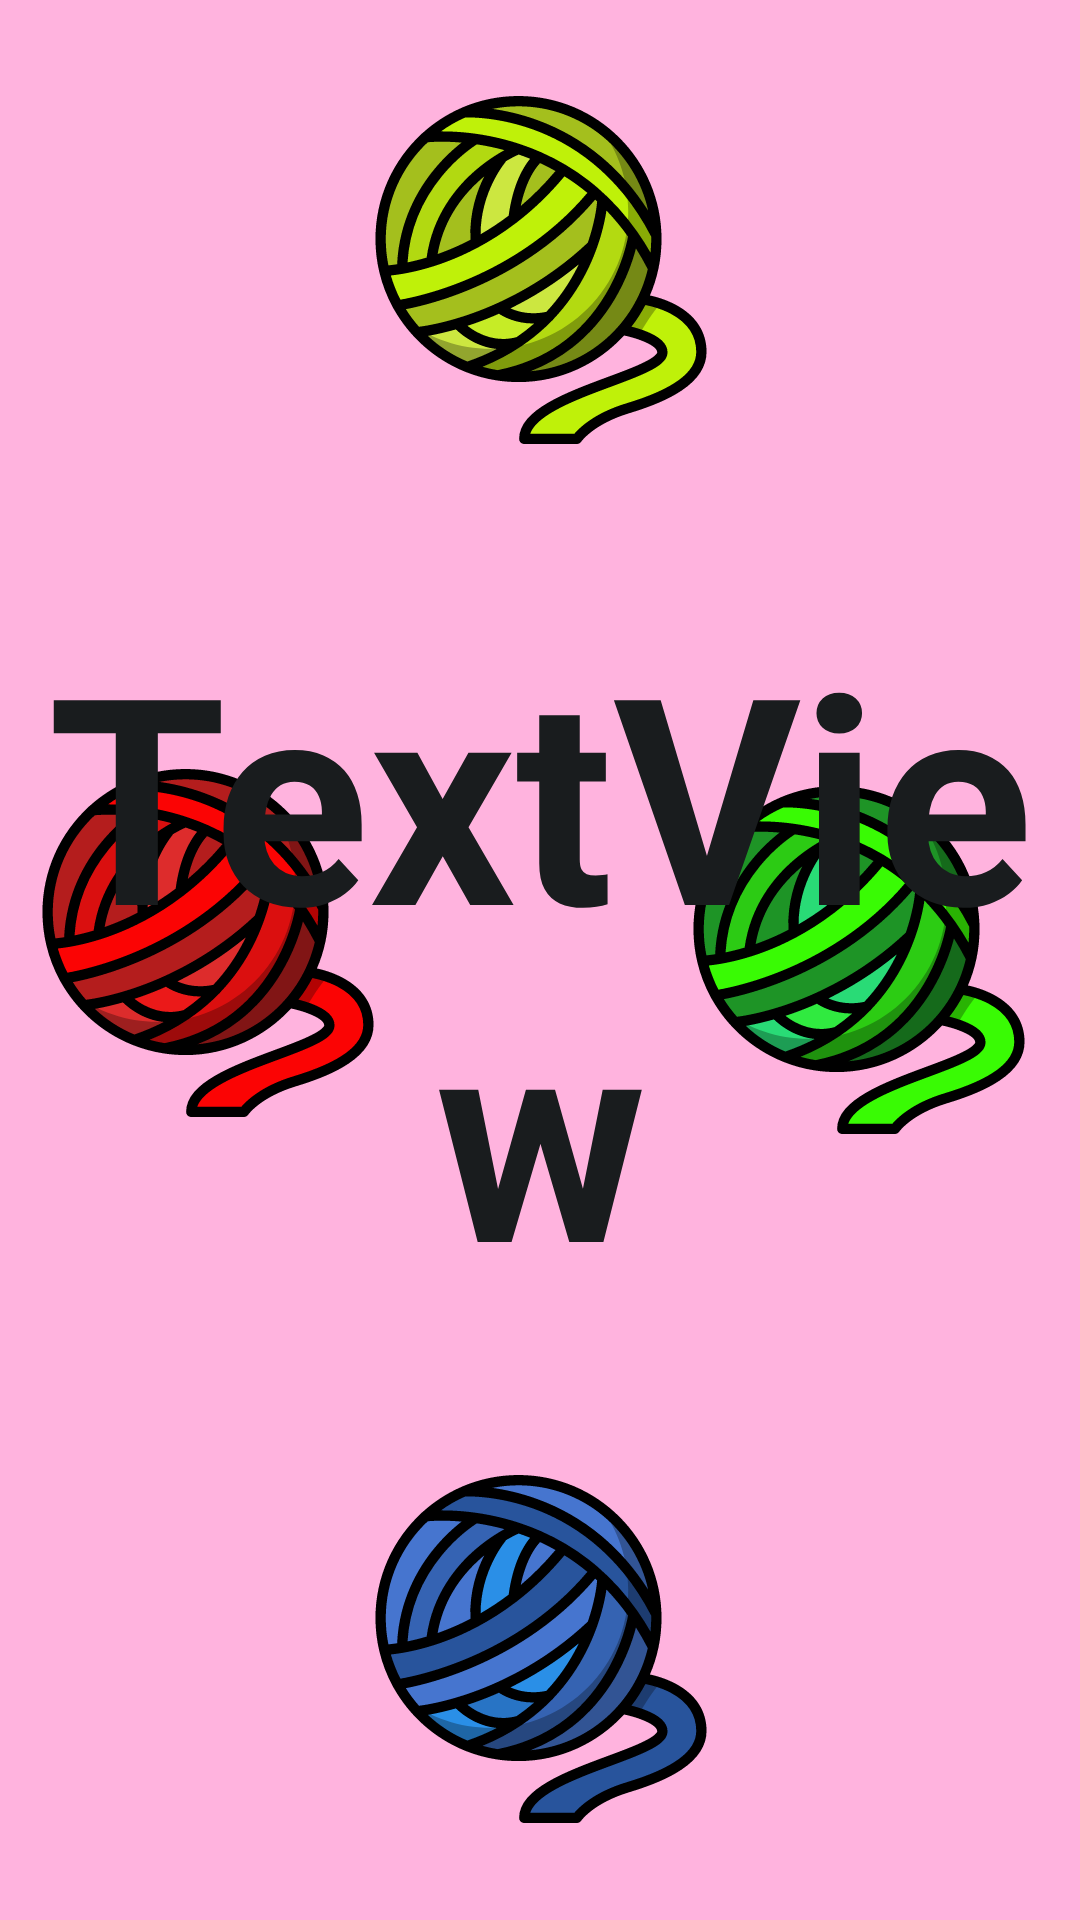

Locate icon controls on the screen. Image size 1080 × 1920, boxes as {"x1": x1, "y1": y1, "x2": x2, "y2": y2}.
Blue wool ball: {"x1": 375, "y1": 1475, "x2": 707, "y2": 1823}
Yellow wool ball: {"x1": 375, "y1": 96, "x2": 707, "y2": 444}
